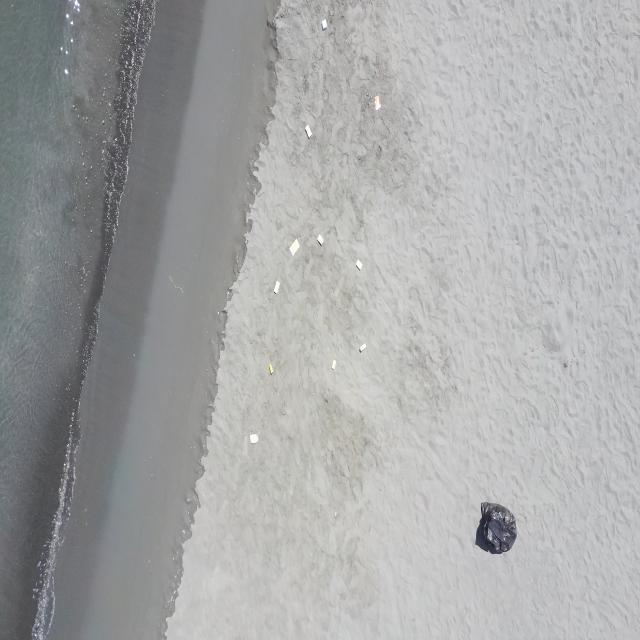Garbage: (479, 504, 515, 552), (288, 239, 299, 255), (304, 124, 312, 138), (248, 432, 258, 443), (272, 280, 279, 292), (320, 19, 327, 30), (316, 233, 323, 244), (355, 259, 362, 270), (375, 95, 380, 110), (359, 343, 366, 352), (267, 363, 271, 373), (331, 360, 335, 369), (64, 68, 68, 74)
